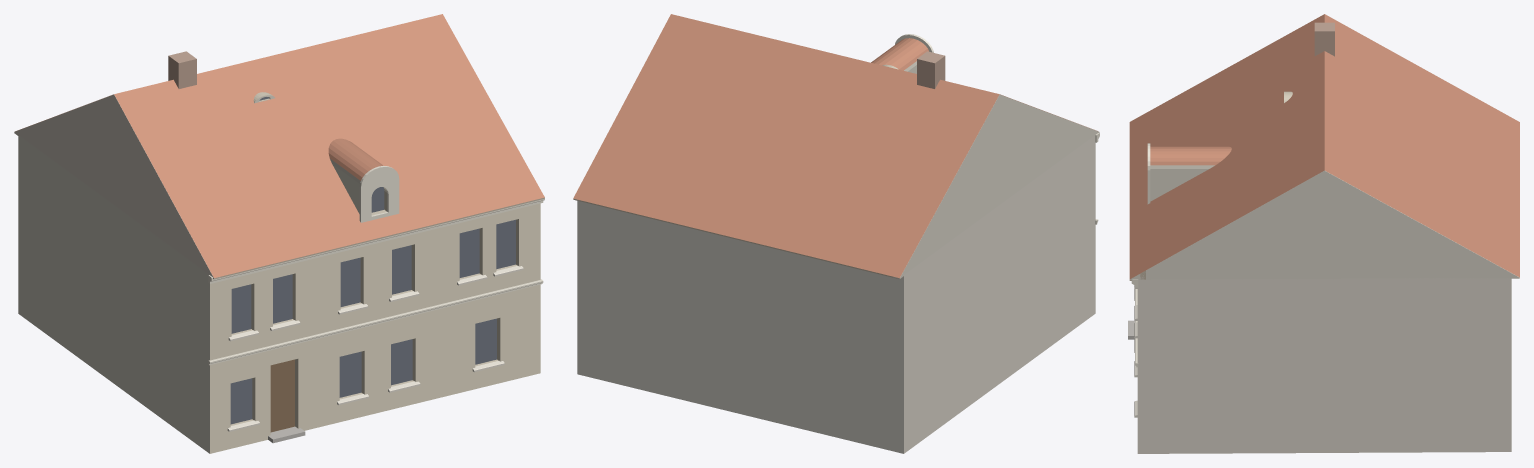
File: 261-claude-r7m.glb
3 renders of one model, left to right at view 1: azimuth 30°, elevation 25°; view 2: azimuth 150°, elevation 25°; view 3: azimuth 270°, elevation 25°, orthographic. The views are drawn at different scales.
Parts seen in each view (by area): view 1: CP_261_Masonry, CP_261_Roof, CP_261_Gable_L_gable, CP_261_Dormer_dormer1, CP_261_Cornice_string_0, CP_261_Dormer_dormer1_frame, CP_261_Cornice_eave_0, CP_261_Chimney_0, CP_261_Roof_EaveClosure_1; view 2: CP_261_Masonry, CP_261_Roof, CP_261_Gable_L_gable, CP_261_Dormer_dormer1, CP_261_Chimney_0, CP_261_Roof_EaveClosure_0; view 3: CP_261_Masonry, CP_261_Roof, CP_261_Gable_R_gable, CP_261_Dormer_dormer1, CP_261_Chimney_0.
Part boxes in pixels (<box>): CP_261_Masonry: <box>18,135,540,453</box>; CP_261_Roof: <box>15,14,544,277</box>; CP_261_Gable_L_gable: <box>14,94,220,278</box>; CP_261_Dormer_dormer1: <box>328,138,387,215</box>; CP_261_Cornice_string_0: <box>208,279,543,365</box>; CP_261_Dormer_dormer1_frame: <box>359,165,399,222</box>; CP_261_Cornice_eave_0: <box>208,196,544,283</box>; CP_261_Chimney_0: <box>168,51,196,88</box>; CP_261_Roof_EaveClosure_1: <box>213,197,544,279</box>; CP_261_Masonry: <box>577,135,1095,453</box>; CP_261_Roof: <box>573,14,1097,277</box>; CP_261_Gable_L_gable: <box>893,94,1099,278</box>; CP_261_Dormer_dormer1: <box>871,38,928,73</box>; CP_261_Chimney_0: <box>917,51,945,88</box>; CP_261_Roof_EaveClosure_0: <box>573,199,903,279</box>; CP_261_Masonry: <box>1137,277,1511,453</box>; CP_261_Roof: <box>1129,14,1519,278</box>; CP_261_Gable_R_gable: <box>1130,170,1519,280</box>; CP_261_Dormer_dormer1: <box>1150,146,1231,201</box>; CP_261_Chimney_0: <box>1314,22,1334,56</box>.
Bounding box in the file's own units: 13.85 × 12.3 × 14.45.
